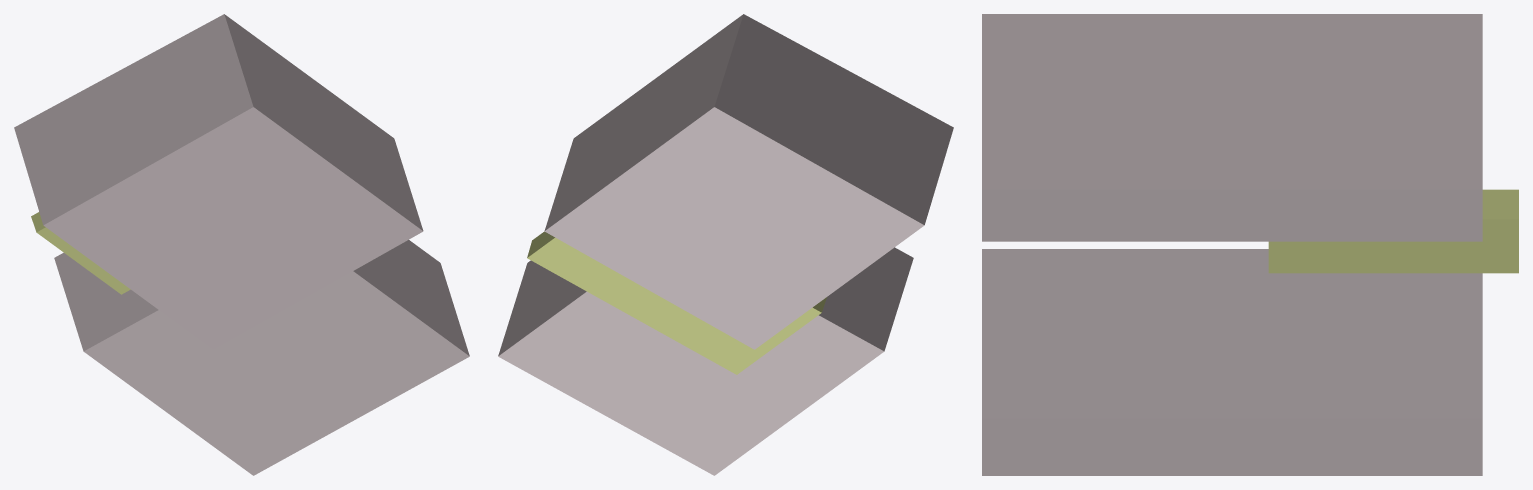
The picture shows the model from 3 angles, left to right: view 1: azimuth 30°, elevation 25°; view 2: azimuth 150°, elevation 25°; view 3: azimuth 270°, elevation 25°; orthographic projection. The views are drawn at different scales.
Visible parts, largest first — view 1: 0_1_3_2_2_2_2_0_0_2_2; view 2: 0_1_3_2_2_2_2_0_0_2_2; view 3: 0_1_3_2_2_2_2_0_0_2_2.
Boxes of the visible parts, box(x1,y1,x2,y2) form: 0_1_3_2_2_2_2_0_0_2_2: box(14, 14, 469, 475); 0_1_3_2_2_2_2_0_0_2_2: box(498, 14, 953, 475); 0_1_3_2_2_2_2_0_0_2_2: box(982, 14, 1518, 475).
Bounding box in the file's own units: 11.65 × 11.81 × 12.87.
